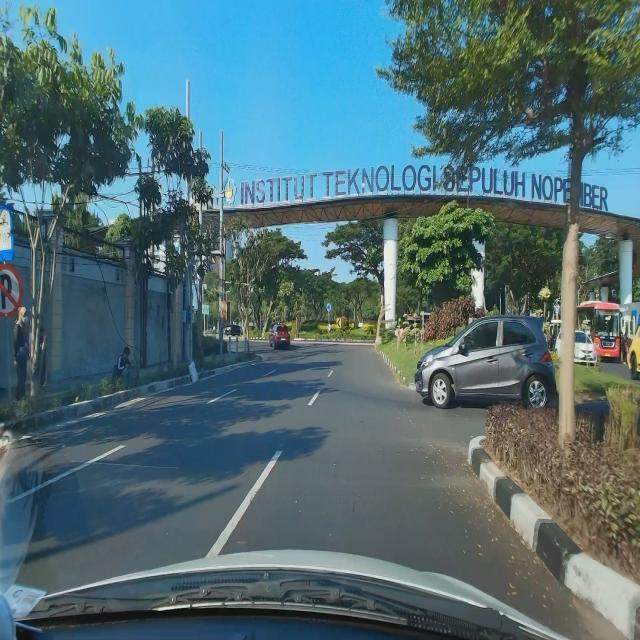car: (269, 324, 291, 350)
license-plate: (281, 338, 286, 341)
